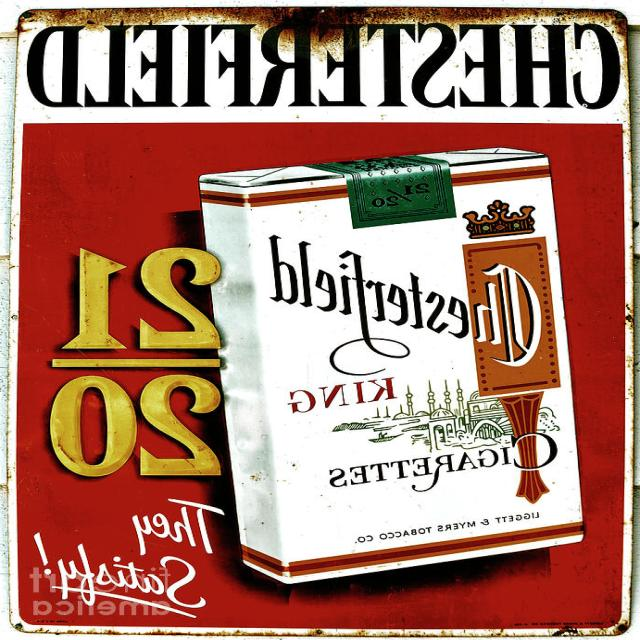chesterfield: (188, 141, 584, 588)
